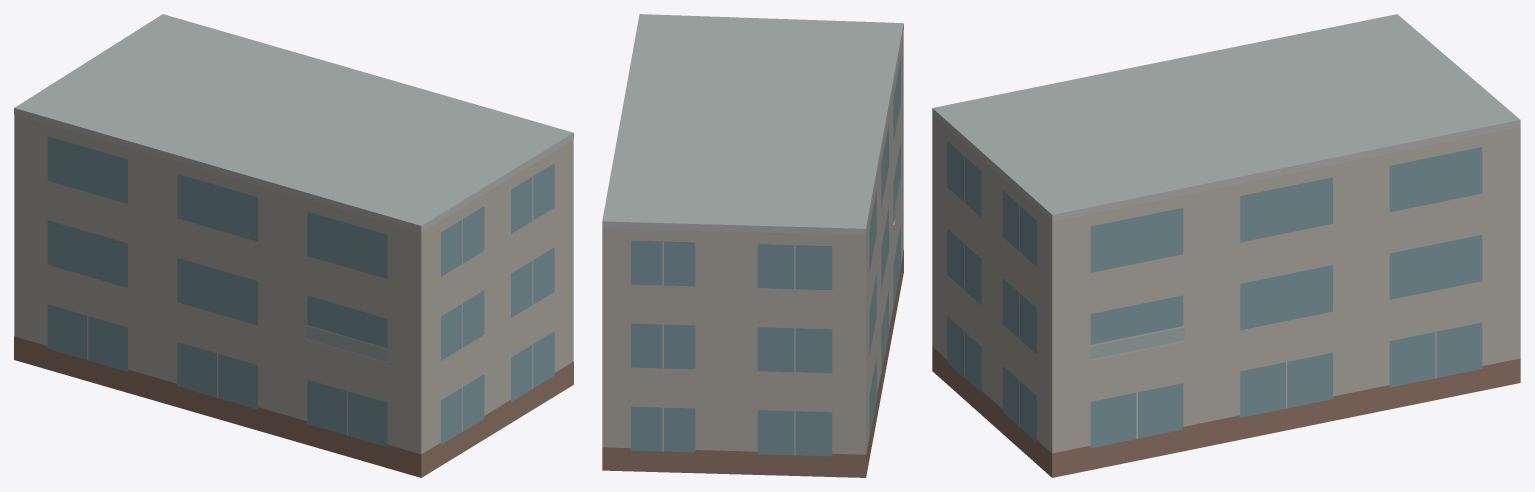
File: survey-upis-32708296.glb
The picture shows the model from 3 angles, left to right: view 1: azimuth 30°, elevation 25°; view 2: azimuth 150°, elevation 25°; view 3: azimuth 270°, elevation 25°; orthographic projection. The views are drawn at different scales.
Parts seen in each view (by area): view 1: survey-upis-32708296.tmp; view 2: survey-upis-32708296.tmp; view 3: survey-upis-32708296.tmp.
Boxes of the visible parts, box(x1,y1,x2,y2) form: survey-upis-32708296.tmp: box(14, 14, 573, 477); survey-upis-32708296.tmp: box(602, 14, 903, 477); survey-upis-32708296.tmp: box(932, 14, 1520, 477).
Bounding box in the file's own units: 14.99 × 9.15 × 18.55.
